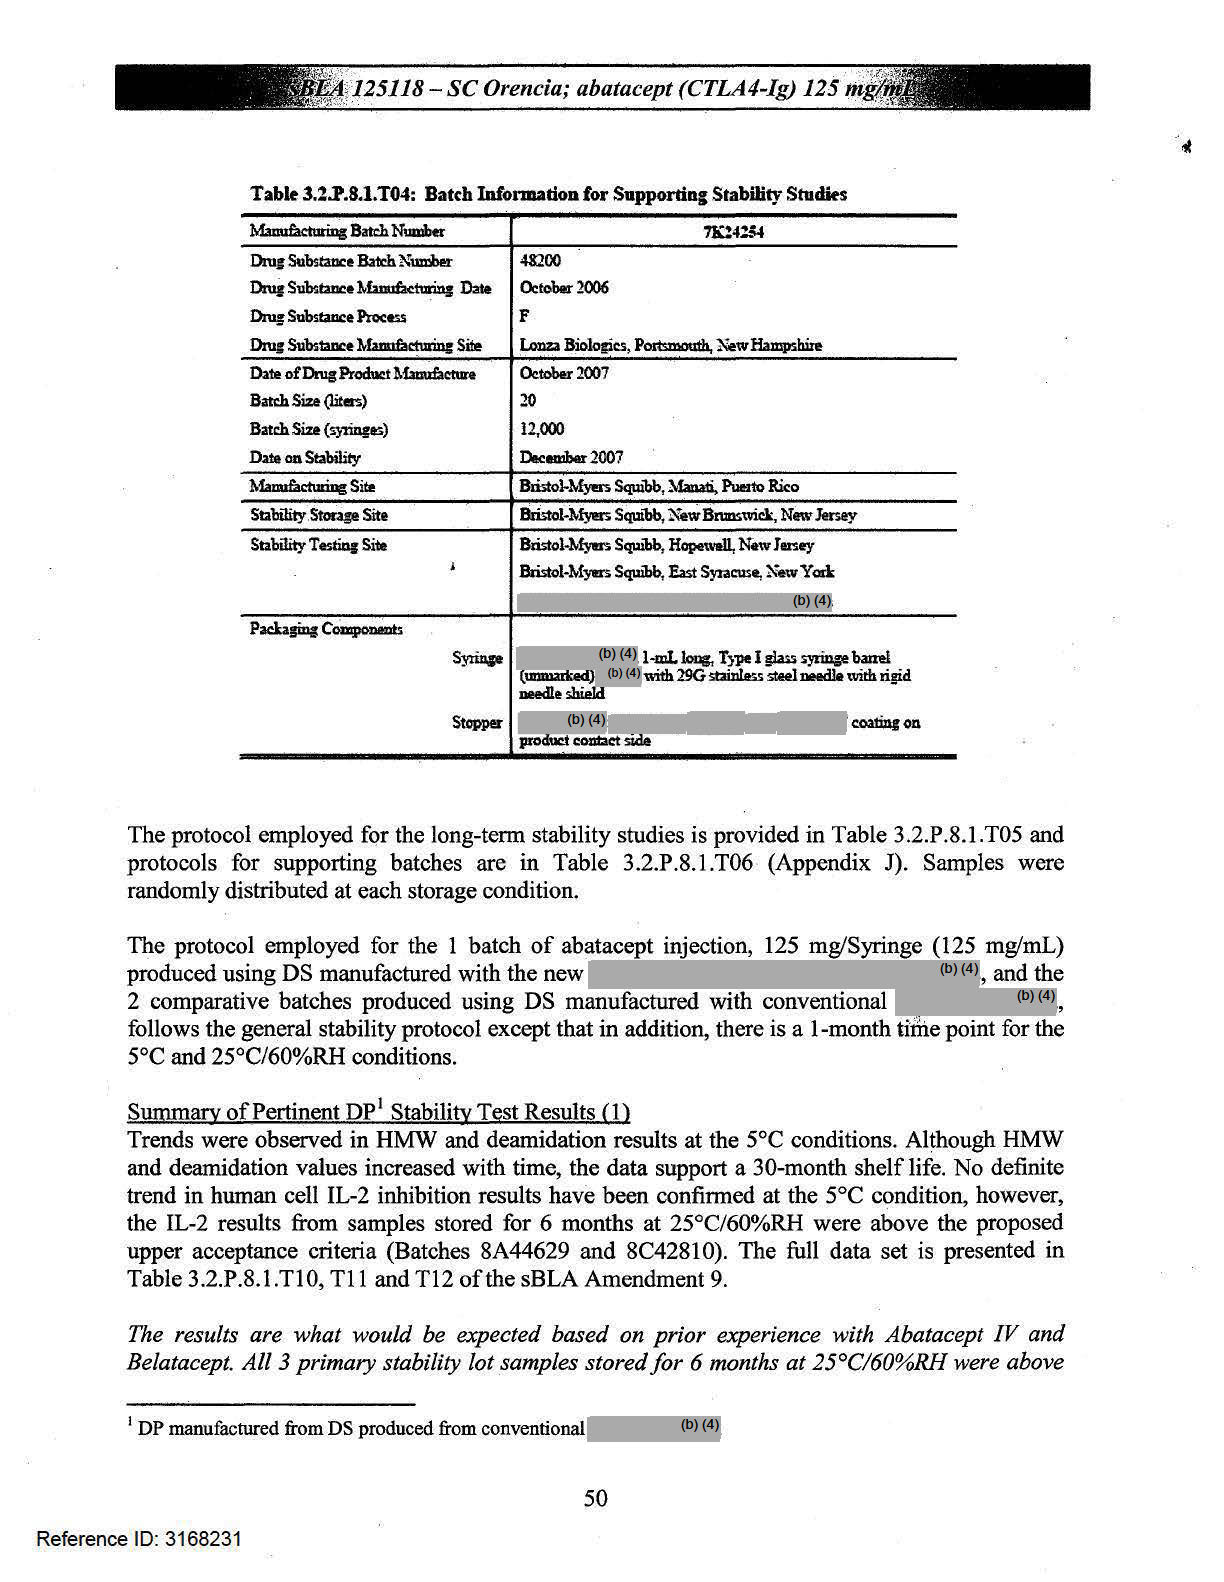partial_lined: (239, 212, 959, 761)
